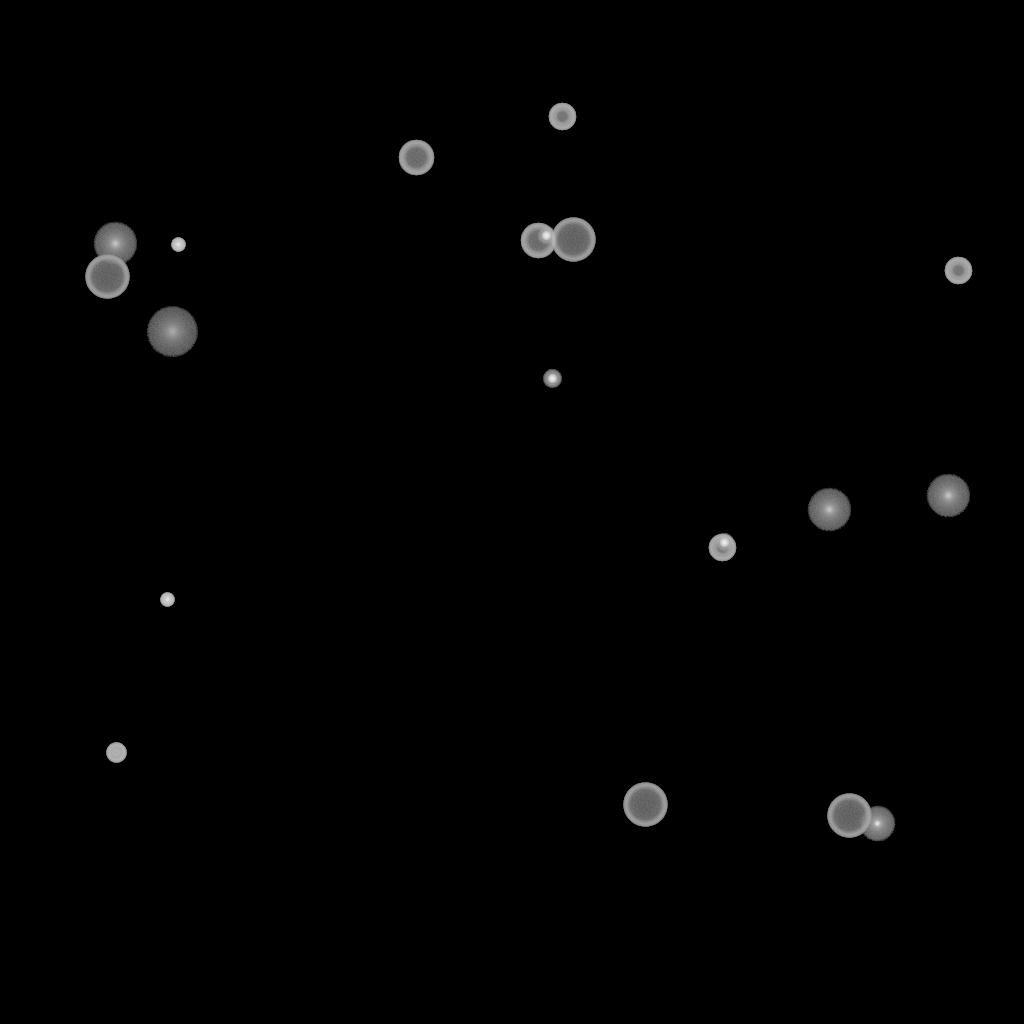depth:-20: (715, 534, 733, 552), (537, 227, 555, 245), (543, 370, 561, 388)
depth:-30: (171, 238, 185, 252), (160, 593, 174, 607)
depth:-40: (106, 743, 126, 763)
depth:-50: (944, 257, 972, 285), (708, 534, 736, 562), (548, 103, 576, 131)
depth:-60: (398, 140, 434, 176), (520, 223, 556, 259)
depth:-70: (551, 218, 595, 262), (85, 255, 129, 299), (623, 783, 667, 827), (827, 794, 871, 838)
depth:0: (859, 806, 895, 842)
depth:10: (807, 488, 851, 532), (93, 222, 137, 266), (926, 474, 970, 518)
depth:20: (146, 307, 198, 357)
